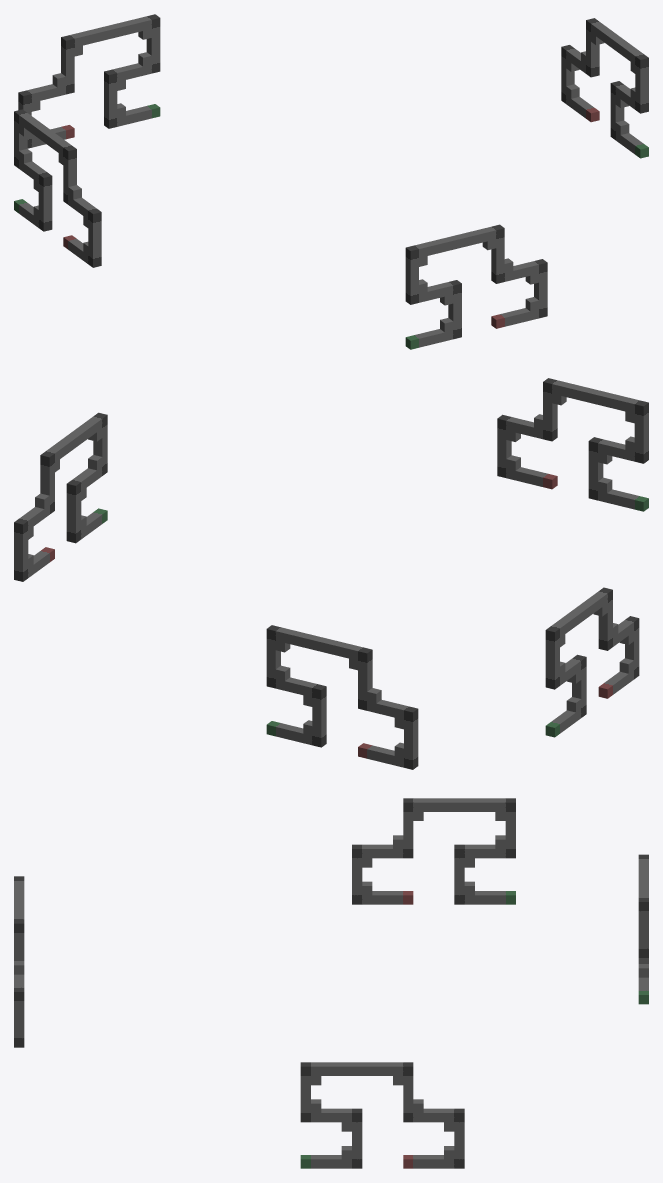
File: pattern_4.glb
The picture shows the model from 3 angles, top to bottom: view 1: azimuth 30°, elevation 25°; view 2: azimuth 150°, elevation 25°; view 3: azimuth 270°, elevation 25°; orthographic projection. The views are drawn at different scales.
Parts seen in each view (by area): view 1: crate_pattern_4; view 2: crate_pattern_4; view 3: crate_pattern_4.
Boxes of the visible parts, left/top/right/bottom form: crate_pattern_4: left=14, top=14, right=648, bottom=349; crate_pattern_4: left=14, top=378, right=648, bottom=769; crate_pattern_4: left=14, top=798, right=648, bottom=1168.
Size of the model in its own units: 6.2 by 1.1 by 6.2.
1 material, 1 textured.
